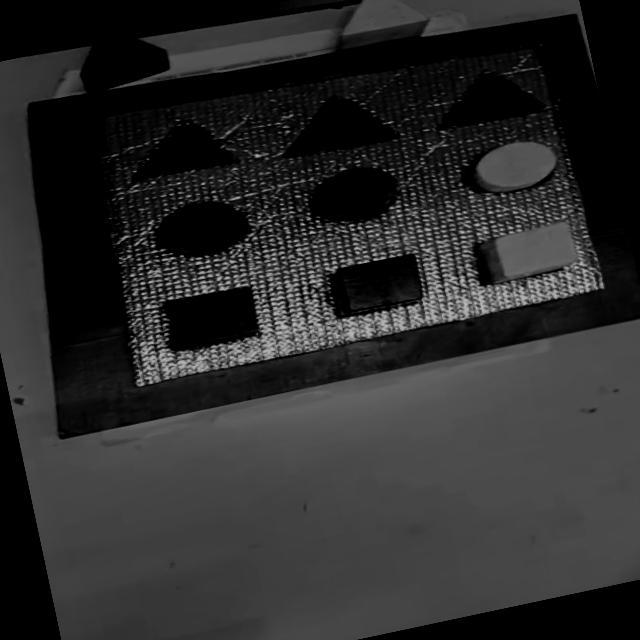bcircle: (152, 192, 250, 261)
bcube: (161, 282, 261, 352)
mttriangle: (273, 84, 398, 161), (429, 58, 546, 132), (124, 110, 238, 184)
rcircle: (310, 159, 404, 226)
rcube: (329, 249, 426, 317)
rtriangle: (74, 26, 174, 94)
wb: (77, 18, 609, 390)
ycircle: (466, 132, 564, 198)
ycube: (473, 218, 582, 286)
ytriangle: (327, 0, 434, 52)
